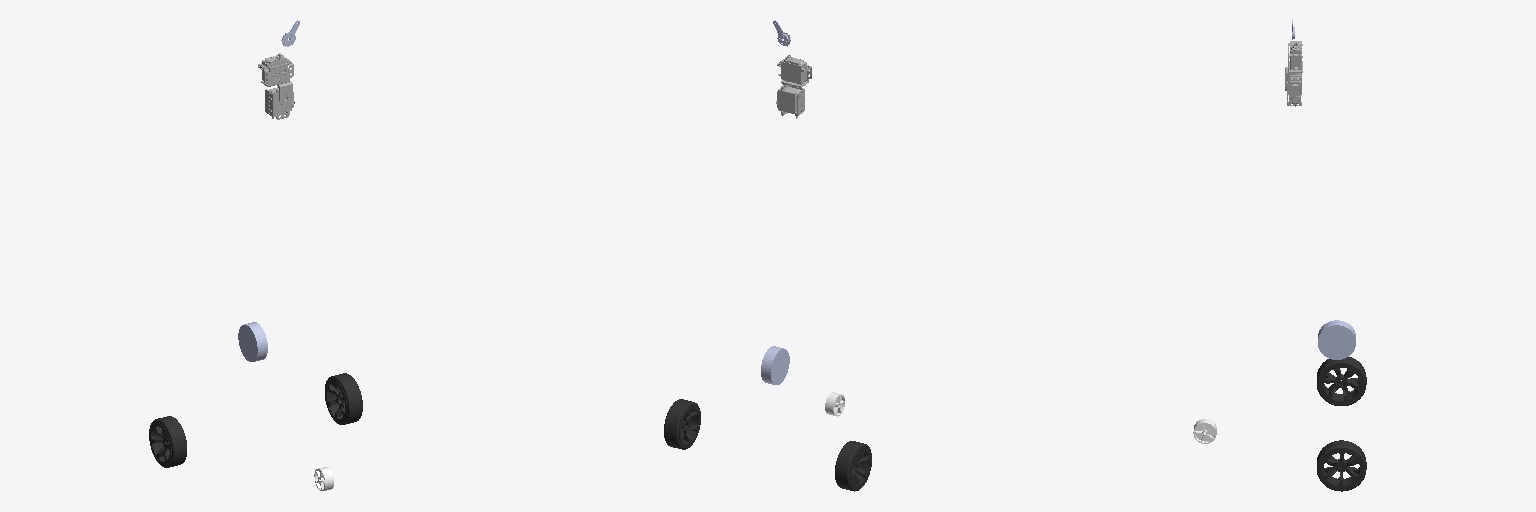
URDF robot description (tf_urdf4):
<?xml version="1.0" encoding="utf-8"?>
<!-- This URDF was automatically created by SolidWorks to URDF Exporter! Originally created by Stephen Brawner ([email redacted]) 
     Commit Version: 1.6.0-4-g7f85cfe  Build Version: 1.6.7995.38578
     For more information, please see http://wiki.ros.org/sw_urdf_exporter -->
<robot
  name="tf_urdf4">
  <link
    name="base_link">
    <inertial>
      <origin
        xyz="-1.05560534986818E-12 5.17741757590009E-12 6.3189360698697E-12"
        rpy="0 0 0" />
      <mass
        value="2.49683972846965" />
      <inertia
        ixx="0.00596159328883625"
        ixy="1.52667097292163E-09"
        ixz="-5.06469082751186E-08"
        iyy="0.00670663028700821"
        iyz="9.04363601046615E-06"
        izz="0.0122170913936761" />
    </inertial>
    <visual>
      <origin
        xyz="0 0 0"
        rpy="0 0 0" />
      <geometry>
        <mesh
          filename="package://tf_urdf4/meshes/base_link.STL" />
      </geometry>
      <material
        name="">
        <color
          rgba="0.752941176470588 0.752941176470588 0.752941176470588 1" />
      </material>
    </visual>
    <collision>
      <origin
        xyz="0 0 0"
        rpy="0 0 0" />
      <geometry>
        <mesh
          filename="package://tf_urdf4/meshes/base_link.STL" />
      </geometry>
    </collision>
  </link>
  <link
    name="base_scan">
    <inertial>
      <origin
        xyz="-2.4980018054066E-16 3.83902436749961E-16 0.00994901655834558"
        rpy="0 0 0" />
      <mass
        value="0.0660277715680958" />
      <inertia
        ixx="1.96156281019639E-05"
        ixy="-3.12159560643289E-11"
        ixz="-1.38845436699261E-21"
        iyy="1.96156714637003E-05"
        iyz="1.40730328551229E-22"
        izz="3.48742138584865E-05" />
    </inertial>
    <visual>
      <origin
        xyz="0 0 0"
        rpy="0 0 0" />
      <geometry>
        <mesh
          filename="package://tf_urdf4/meshes/base_scan.STL" />
      </geometry>
      <material
        name="">
        <color
          rgba="0.792156862745098 0.819607843137255 0.933333333333333 1" />
      </material>
    </visual>
    <collision>
      <origin
        xyz="0 0 0"
        rpy="0 0 0" />
      <geometry>
        <mesh
          filename="package://tf_urdf4/meshes/base_scan.STL" />
      </geometry>
    </collision>
  </link>
  <joint
    name="scan_joint"
    type="revolute">
    <origin
      xyz="-0.000111983196857368 0.0672432860074702 0.0279411844683552"
      rpy="0 0 1.5707963267949" />
    <parent
      link="base_link" />
    <child
      link="base_scan" />
    <axis
      xyz="0 0 1" />
    <limit
      lower="0"
      upper="0"
      effort="0"
      velocity="0" />
  </joint>
  <link
    name="camera_link">
    <inertial>
      <origin
        xyz="-3.59644433374554E-06 -8.99346854922878E-05 -0.0199626937112506"
        rpy="0 0 0" />
      <mass
        value="0.182998719642637" />
      <inertia
        ixx="3.59922734205334E-05"
        ixy="2.02060737877945E-09"
        ixz="4.50592006752717E-08"
        iyy="0.000405203068673987"
        iyz="4.47034378864407E-08"
        izz="0.0003962824182528" />
    </inertial>
    <visual>
      <origin
        xyz="0 0 0"
        rpy="0 0 0" />
      <geometry>
        <mesh
          filename="package://tf_urdf4/meshes/camera_link.STL" />
      </geometry>
      <material
        name="">
        <color
          rgba="0.752941176470588 0.752941176470588 0.752941176470588 1" />
      </material>
    </visual>
    <collision>
      <origin
        xyz="0 0 0"
        rpy="0 0 0" />
      <geometry>
        <mesh
          filename="package://tf_urdf4/meshes/camera_link.STL" />
      </geometry>
    </collision>
  </link>
  <joint
    name="camera_joint"
    type="fixed">
    <origin
      xyz="-0.000111983196859081 0.0492432860074682 0.081941184468354"
      rpy="1.5707963267949 0 -3.14159265358979" />
    <parent
      link="base_link" />
    <child
      link="camera_link" />
    <axis
      xyz="0 0 0" />
  </joint>
  <link
    name="left_wheel_link">
    <inertial>
      <origin
        xyz="-0.0150496497452622 -1.96168775667971E-12 -1.66533453693773E-16"
        rpy="0 0 0" />
      <mass
        value="0.0895053073671553" />
      <inertia
        ixx="0.000104006422478187"
        ixy="7.8942028092174E-16"
        ixz="4.46906348273237E-20"
        iyy="5.80082032825446E-05"
        iyz="9.78356935396607E-16"
        izz="5.80082032677947E-05" />
    </inertial>
    <visual>
      <origin
        xyz="0 0 0"
        rpy="0 0 0" />
      <geometry>
        <mesh
          filename="package://tf_urdf4/meshes/left_wheel_link.STL" />
      </geometry>
      <material
        name="">
        <color
          rgba="0.250980392156863 0.250980392156863 0.250980392156863 1" />
      </material>
    </visual>
    <collision>
      <origin
        xyz="0 0 0"
        rpy="0 0 0" />
      <geometry>
        <mesh
          filename="package://tf_urdf4/meshes/left_wheel_link.STL" />
      </geometry>
    </collision>
  </link>
  <joint
    name="left_wheel_joint"
    type="continuous">
    <origin
      xyz="-0.154611983196859 0.07499328600747 -0.122058815531645"
      rpy="0.848490512040727 0 0" />
    <parent
      link="base_link" />
    <child
      link="left_wheel_link" />
    <axis
      xyz="1 0 0" />
  </joint>
  <link
    name="right_wheel_link">
    <inertial>
      <origin
        xyz="-0.0150496497452624 -1.96179184008827E-12 5.55111512312578E-17"
        rpy="0 0 0" />
      <mass
        value="0.0895053073671553" />
      <inertia
        ixx="0.000104006422478187"
        ixy="7.89519101125263E-16"
        ixz="-4.17572598563198E-20"
        iyy="5.80082032825446E-05"
        iyz="9.78341688803556E-16"
        izz="5.80082032677947E-05" />
    </inertial>
    <visual>
      <origin
        xyz="0 0 0"
        rpy="0 0 0" />
      <geometry>
        <mesh
          filename="package://tf_urdf4/meshes/right_wheel_link.STL" />
      </geometry>
      <material
        name="">
        <color
          rgba="0.250980392156863 0.250980392156863 0.250980392156863 1" />
      </material>
    </visual>
    <collision>
      <origin
        xyz="0 0 0"
        rpy="0 0 0" />
      <geometry>
        <mesh
          filename="package://tf_urdf4/meshes/right_wheel_link.STL" />
      </geometry>
    </collision>
  </link>
  <joint
    name="right_wheel_joint"
    type="continuous">
    <origin
      xyz="0.154388016803143 0.0749932860074705 -0.122058815531644"
      rpy="0.537102295661347 0 3.14159265358979" />
    <parent
      link="base_link" />
    <child
      link="right_wheel_link" />
    <axis
      xyz="1 0 0" />
  </joint>
  <link
    name="caster_link">
    <inertial>
      <origin
        xyz="0.00460335958615544 -2.77555756156289E-17 -2.77555756156289E-17"
        rpy="0 0 0" />
      <mass
        value="0.01152385226836" />
      <inertia
        ixx="2.43995864492354E-06"
        ixy="-1.53524721689842E-21"
        ixz="1.5945974258491E-21"
        iyy="1.40033256895839E-06"
        iyz="-1.05548246161766E-21"
        izz="1.40033256895839E-06" />
    </inertial>
    <visual>
      <origin
        xyz="0 0 0"
        rpy="0 0 0" />
      <geometry>
        <mesh
          filename="package://tf_urdf4/meshes/caster_link.STL" />
      </geometry>
      <material
        name="">
        <color
          rgba="1 1 1 1" />
      </material>
    </visual>
    <collision>
      <origin
        xyz="0 0 0"
        rpy="0 0 0" />
      <geometry>
        <mesh
          filename="package://tf_urdf4/meshes/caster_link.STL" />
      </geometry>
    </collision>
  </link>
  <joint
    name="caster_joint"
    type="continuous">
    <origin
      xyz="-0.00529453860616872 -0.154589183772954 -0.137058815531645"
      rpy="3.10068855200101 0 -0.0342357063287251" />
    <parent
      link="base_link" />
    <child
      link="caster_link" />
    <axis
      xyz="1 0 0" />
  </joint>
  <link
    name="arm_1_link">
    <inertial>
      <origin
        xyz="-0.00304007438065453 0.0196164335046979 -0.00291517433011595"
        rpy="0 0 0" />
      <mass
        value="0.102309676287535" />
      <inertia
        ixx="5.85277337608616E-05"
        ixy="-1.8303414931448E-07"
        ixz="-5.85534183281326E-07"
        iyy="0.000109918724976135"
        iyz="3.63049047084484E-07"
        izz="5.95682017970658E-05" />
    </inertial>
    <visual>
      <origin
        xyz="0 0 0"
        rpy="0 0 0" />
      <geometry>
        <mesh
          filename="package://tf_urdf4/meshes/arm_1_link.STL" />
      </geometry>
      <material
        name="">
        <color
          rgba="0.752941176470588 0.752941176470588 0.752941176470588 1" />
      </material>
    </visual>
    <collision>
      <origin
        xyz="0 0 0"
        rpy="0 0 0" />
      <geometry>
        <mesh
          filename="package://tf_urdf4/meshes/arm_1_link.STL" />
      </geometry>
    </collision>
  </link>
  <joint
    name="arm_1_joint"
    type="continuous">
    <origin
      xyz="-0.00011198319686706 -0.00375671399253373 0.159441184468351"
      rpy="1.57079632679492 0 1.96777674023234" />
    <parent
      link="base_link" />
    <child
      link="arm_1_link" />
    <axis
      xyz="0 1 0" />
    <limit
      lower="-1.57"
      upper="1.57"
      effort="10"
      velocity="100" />
  </joint>
  <link
    name="arm_2_link">
    <inertial>
      <origin
        xyz="-0.00136241892713562 0.0760000000000023 0.00324974749159382"
        rpy="0 0 0" />
      <mass
        value="0.0731866074343534" />
      <inertia
        ixx="4.80073815600609E-05"
        ixy="-1.0085102807972E-08"
        ixz="8.91994561567396E-06"
        iyy="3.20760640864427E-05"
        iyz="2.4055771364669E-08"
        izz="3.04704178358962E-05" />
    </inertial>
    <visual>
      <origin
        xyz="0 0 0"
        rpy="0 0 0" />
      <geometry>
        <mesh
          filename="package://tf_urdf4/meshes/arm_2_link.STL" />
      </geometry>
      <material
        name="">
        <color
          rgba="0.752941176470588 0.752941176470588 0.752941176470588 1" />
      </material>
    </visual>
    <collision>
      <origin
        xyz="0 0 0"
        rpy="0 0 0" />
      <geometry>
        <mesh
          filename="package://tf_urdf4/meshes/arm_2_link.STL" />
      </geometry>
    </collision>
  </link>
  <joint
    name="arm_2_joint"
    type="continuous">
    <origin
      xyz="0.000571784258836123 0.0325000000000039 0.000239713915631086"
      rpy="0 0 0" />
    <parent
      link="arm_1_link" />
    <child
      link="arm_2_link" />
    <axis
      xyz="0.38663534779586 0 -0.9222326755406" />
    <limit
      lower="-1.57"
      upper="1.57"
      effort="10"
      velocity="100" />
  </joint>
  <link
    name="arm_3_link">
    <inertial>
      <origin
        xyz="-0.00258153228787279 0.0524015939542957 0.000939181170582016"
        rpy="0 0 0" />
      <mass
        value="0.103604281307373" />
      <inertia
        ixx="3.85881018738449E-05"
        ixy="-4.80398867266677E-07"
        ixz="5.05895931055262E-06"
        iyy="2.28862113904851E-05"
        iyz="-1.4445332567535E-07"
        izz="2.97794533691077E-05" />
    </inertial>
    <visual>
      <origin
        xyz="0 0 0"
        rpy="0 0 0" />
      <geometry>
        <mesh
          filename="package://tf_urdf4/meshes/arm_3_link.STL" />
      </geometry>
      <material
        name="">
        <color
          rgba="0.752941176470588 0.752941176470588 0.752941176470588 1" />
      </material>
    </visual>
    <collision>
      <origin
        xyz="0 0 0"
        rpy="0 0 0" />
      <geometry>
        <mesh
          filename="package://tf_urdf4/meshes/arm_3_link.STL" />
      </geometry>
    </collision>
  </link>
  <joint
    name="arm_3_joint"
    type="continuous">
    <origin
      xyz="0 0.151999999999986 0"
      rpy="0 0 0" />
    <parent
      link="arm_2_link" />
    <child
      link="arm_3_link" />
    <axis
      xyz="0.38663534779586 0 -0.9222326755406" />
    <limit
      lower="-1.57"
      upper="1.57"
      effort="10"
      velocity="100" />
  </joint>
  <link
    name="arm_4_link">
    <inertial>
      <origin
        xyz="-0.00101187417577296 0.03750117867634 -0.0036670811466383"
        rpy="0 0 0" />
      <mass
        value="0.099566536585408" />
      <inertia
        ixx="2.11129356369916E-05"
        ixy="-8.60508841028882E-08"
        ixz="2.61664426613929E-06"
        iyy="1.51148953321379E-05"
        iyz="-3.60758307772027E-08"
        izz="1.71059722694777E-05" />
    </inertial>
    <visual>
      <origin
        xyz="0 0 0"
        rpy="0 0 0" />
      <geometry>
        <mesh
          filename="package://tf_urdf4/meshes/arm_4_link.STL" />
      </geometry>
      <material
        name="">
        <color
          rgba="0.752941176470588 0.752941176470588 0.752941176470588 1" />
      </material>
    </visual>
    <collision>
      <origin
        xyz="0 0 0"
        rpy="0 0 0" />
      <geometry>
        <mesh
          filename="package://tf_urdf4/meshes/arm_4_link.STL" />
      </geometry>
    </collision>
  </link>
  <joint
    name="arm_4_joint"
    type="continuous">
    <origin
      xyz="0 0.146399999999993 0"
      rpy="0 0 0" />
    <parent
      link="arm_3_link" />
    <child
      link="arm_4_link" />
    <axis
      xyz="0.386635347795599 0 -0.92223267554071" />
    <limit
      lower="-1.57"
      upper="1.57"
      effort="10"
      velocity="100" />
  </joint>
  <link
    name="arm_5_link">
    <inertial>
      <origin
        xyz="-0.00868940066591037 0.0276881875422174 -0.0253003256746481"
        rpy="0 0 0" />
      <mass
        value="0.0375612763588537" />
      <inertia
        ixx="6.51328883590766E-06"
        ixy="4.82424646233727E-09"
        ixz="1.70111532974808E-06"
        iyy="6.43248421285329E-06"
        iyz="-9.59387280059454E-09"
        izz="2.95122651270779E-06" />
    </inertial>
    <visual>
      <origin
        xyz="0 0 0"
        rpy="0 0 0" />
      <geometry>
        <mesh
          filename="package://tf_urdf4/meshes/arm_5_link.STL" />
      </geometry>
      <material
        name="">
        <color
          rgba="0.752941176470588 0.752941176470588 0.752941176470588 1" />
      </material>
    </visual>
    <collision>
      <origin
        xyz="0 0 0"
        rpy="0 0 0" />
      <geometry>
        <mesh
          filename="package://tf_urdf4/meshes/arm_5_link.STL" />
      </geometry>
    </collision>
  </link>
  <joint
    name="arm_5_joint"
    type="continuous">
    <origin
      xyz="0.000560909224834121 0.0911499999986533 0.00281042669817278"
      rpy="3.14159265358979 0 3.14159265358979" />
    <parent
      link="arm_4_link" />
    <child
      link="arm_5_link" />
    <axis
      xyz="0 1 0" />
    <limit
      lower="-1.57"
      upper="1.57"
      effort="10"
      velocity="100" />
  </joint>
  <link
    name="gripper_1_link">
    <inertial>
      <origin
        xyz="0.00016348046712289 -0.0040398348912879 0.00336463442543424"
        rpy="0 0 0" />
      <mass
        value="0.00233893532260202" />
      <inertia
        ixx="2.440851045103E-07"
        ixy="-4.91339632078569E-09"
        ixz="-5.73115485651284E-19"
        iyy="7.71995240694372E-08"
        iyz="2.04123402593115E-18"
        izz="3.18397565042681E-07" />
    </inertial>
    <visual>
      <origin
        xyz="0 0 0"
        rpy="0 0 0" />
      <geometry>
        <mesh
          filename="package://tf_urdf4/meshes/gripper_1_link.STL" />
      </geometry>
      <material
        name="">
        <color
          rgba="0.792156862745098 0.819607843137255 0.933333333333333 1" />
      </material>
    </visual>
    <collision>
      <origin
        xyz="0 0 0"
        rpy="0 0 0" />
      <geometry>
        <mesh
          filename="package://tf_urdf4/meshes/gripper_1_link.STL" />
      </geometry>
    </collision>
  </link>
  <joint
    name="gripper_1_joint"
    type="continuous">
    <origin
      xyz="0.00681042856125095 0.029500000001314 -0.0117831951445652"
      rpy="0.90777401970624 -0.891606334194579 2.11682187298321" />
    <parent
      link="arm_5_link" />
    <child
      link="gripper_1_link" />
    <axis
      xyz="0 0 1" />
    <limit
      lower="-1.57"
      upper="1.57"
      effort="10"
      velocity="100" />
  </joint>
</robot>

--- Render facts (derived) ---
3 views of the same robot in one strip: view 1: azimuth 30°, elevation 25°; view 2: azimuth 150°, elevation 25°; view 3: azimuth 270°, elevation 25° (orthographic).
Model tf_urdf4 with 12 links and 11 joints (1 revolute, 9 continuous, 1 fixed), rooted at base_link, posed every joint at zero.
Visible links, largest first — view 1: arm_4_link, left_wheel_link, right_wheel_link, base_scan; view 2: arm_4_link, right_wheel_link, left_wheel_link, base_scan; view 3: right_wheel_link, left_wheel_link, base_scan, arm_4_link.
Boxes of the visible links, x1,y1,x2,y2 form: arm_4_link: [258, 53, 294, 119]; left_wheel_link: [149, 416, 186, 467]; right_wheel_link: [325, 373, 362, 424]; base_scan: [238, 322, 267, 361]; arm_4_link: [776, 55, 811, 118]; right_wheel_link: [664, 399, 700, 449]; left_wheel_link: [835, 441, 871, 491]; base_scan: [761, 346, 789, 384]; right_wheel_link: [1317, 440, 1366, 491]; left_wheel_link: [1317, 357, 1366, 405]; base_scan: [1318, 320, 1355, 359]; arm_4_link: [1285, 41, 1302, 106].
Size in the robot's own frame: 0.369 by 0.2916 by 0.8057 metres.
6 mesh visuals loaded from 12 distinct referenced files (6 binary STL); not drawn: 6 (reference not matched to a file when rendering).
